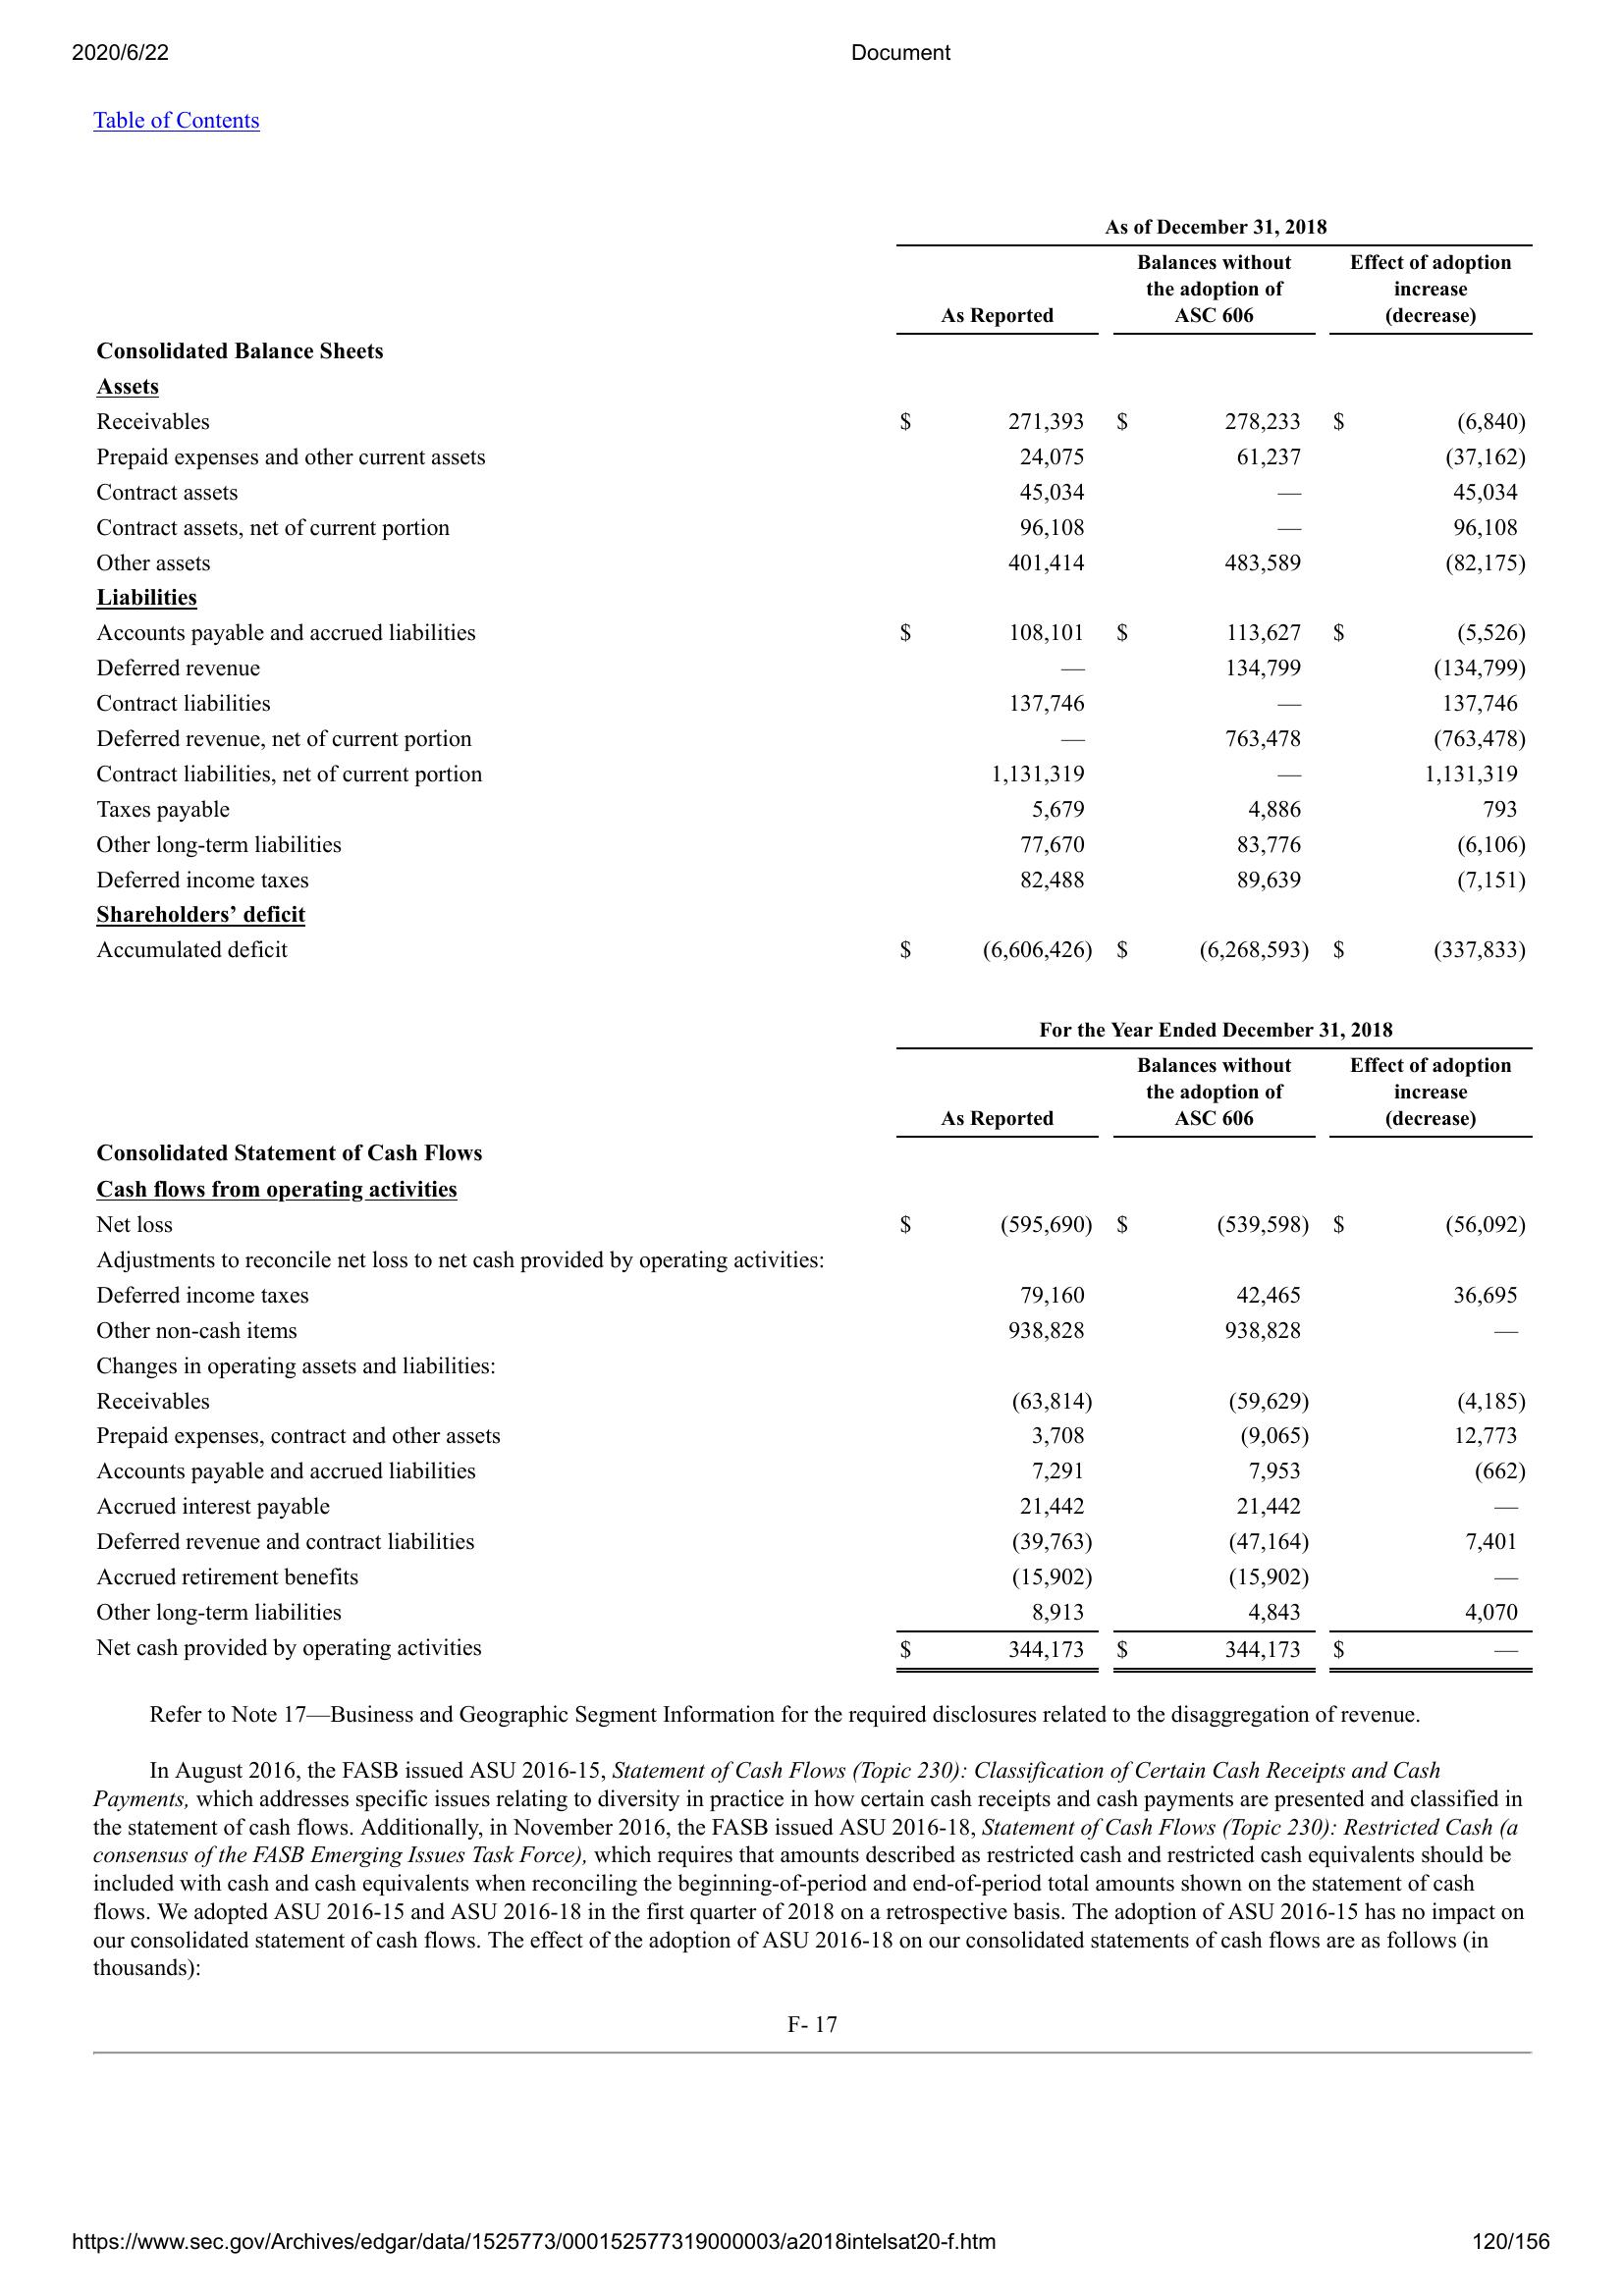table: (84, 214, 1533, 972), (91, 1016, 1540, 1678)
